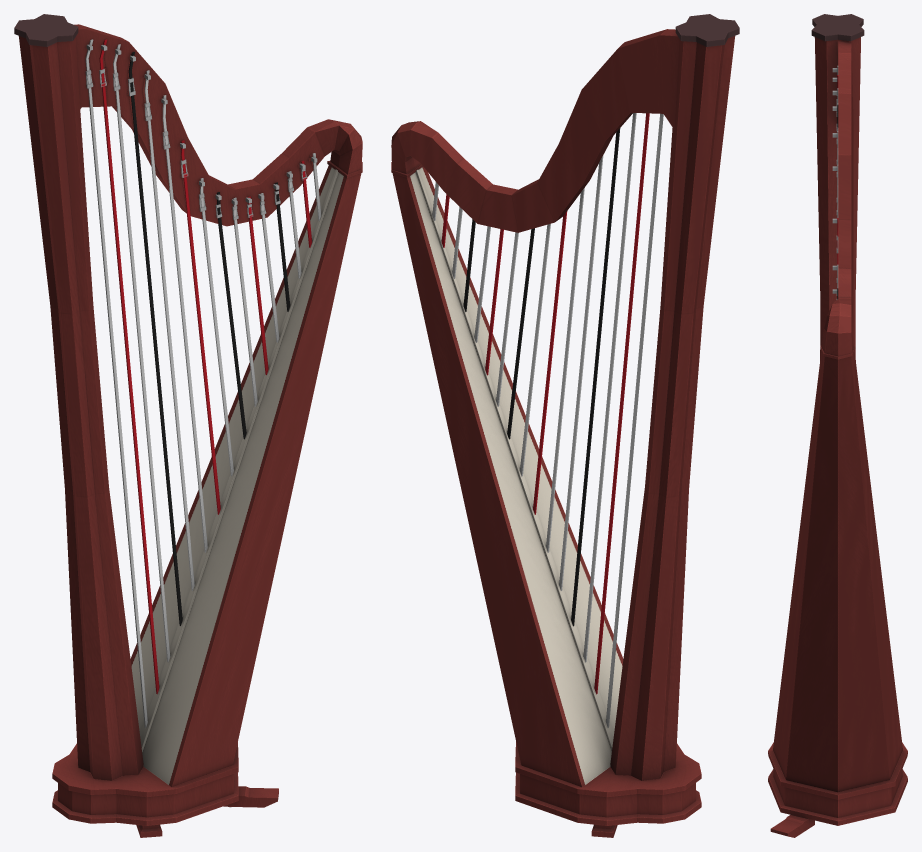
Rendered from bdccab14-4489-48e2-ad91-5d7905109d9a.glb.
3 renders of one model, left to right at view 1: azimuth 30°, elevation 25°; view 2: azimuth 150°, elevation 25°; view 3: azimuth 270°, elevation 25°, orthographic. The views are drawn at different scales.
Visible parts, largest first — view 1: Harp_mesh; view 2: Harp_mesh; view 3: Harp_mesh.
Part boxes in pixels (box(x1,y1,x2,y2)): Harp_mesh: box(14, 14, 362, 837); Harp_mesh: box(391, 14, 739, 837); Harp_mesh: box(768, 14, 907, 837).
Size of the model in its own units: 2.31 by 5.2 by 0.905.
1 material, 1 textured.
